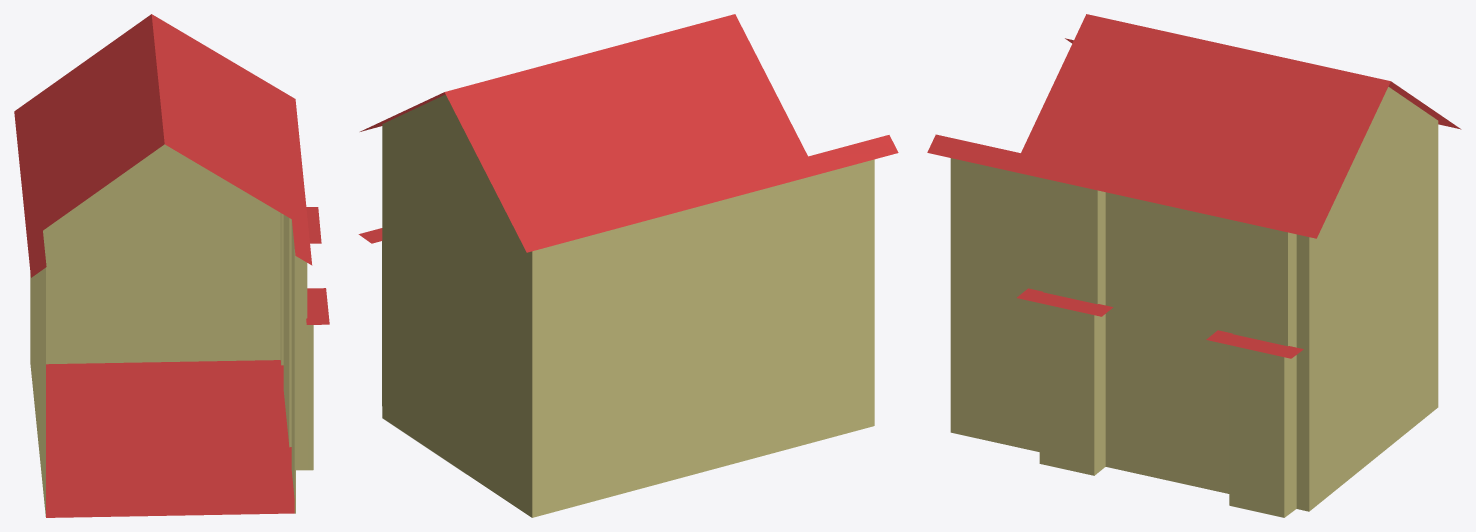
3 views of the same model, side by side, from view 1: azimuth 30°, elevation 25°; view 2: azimuth 150°, elevation 25°; view 3: azimuth 270°, elevation 25° (orthographic). The views are drawn at different scales.
Visible parts, largest first — view 1: group_5, group_3, group_6, group_9, group_7, group_4, group_11; view 2: group_5, group_3, group_4; view 3: group_5, group_3, group_9, group_13, group_11, group_7.
Part boxes in pixels (left/top/right/bottom): group_5: left=30, top=144, right=307, bottom=516; group_3: left=14, top=14, right=312, bottom=277; group_6: left=46, top=360, right=294, bottom=517; group_9: left=307, top=325, right=313, bottom=470; group_7: left=306, top=288, right=329, bottom=324; group_4: left=30, top=120, right=307, bottom=276; group_11: left=306, top=207, right=321, bottom=243; group_5: left=382, top=94, right=874, bottom=517; group_3: left=444, top=14, right=898, bottom=252; group_4: left=360, top=92, right=898, bottom=227; group_5: left=950, top=87, right=1438, bottom=514; group_3: left=927, top=14, right=1461, bottom=238; group_9: left=1039, top=303, right=1097, bottom=475; group_13: left=1229, top=345, right=1287, bottom=517; group_11: left=1206, top=330, right=1303, bottom=358; group_7: left=1017, top=288, right=1113, bottom=316.
Bounding box in the file's own units: 21.41 × 23.09 × 18.12.
